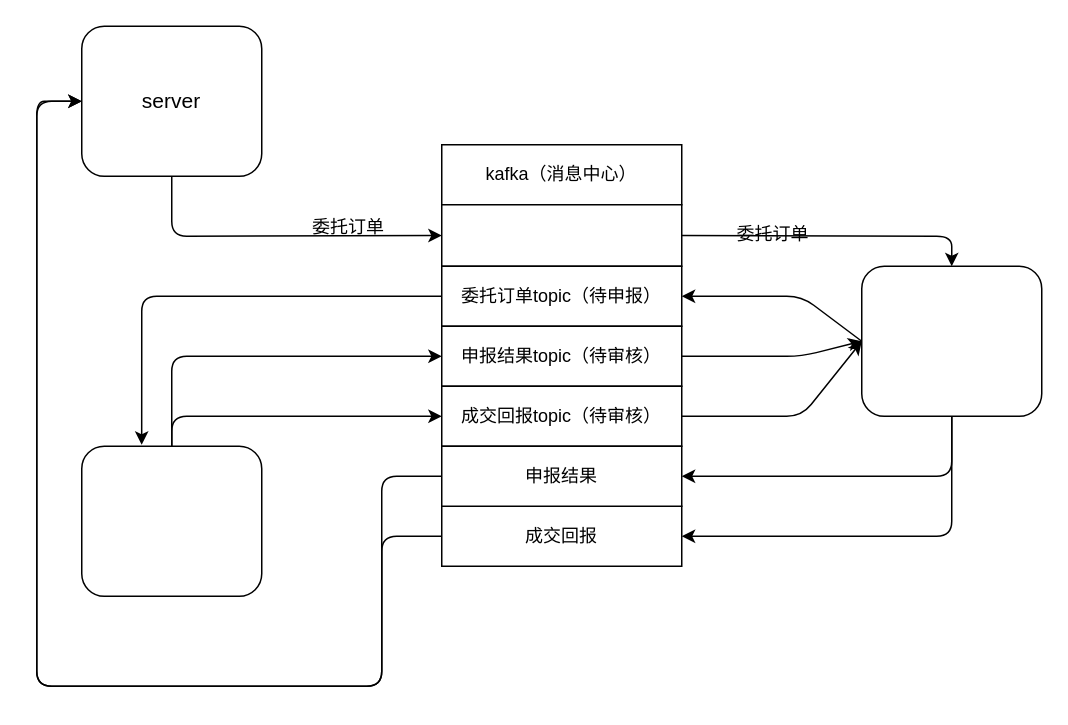
The diagram is 1068 pixels wide and 725 high, and some of its shapes have lost their labels. The centre of each missing label's shape, as x and y in pixels:
"flink 预警系统" goes at (951,340).
"委托订单topic（待审核）" goes at (561,234).
"申报机" goes at (171,520).
